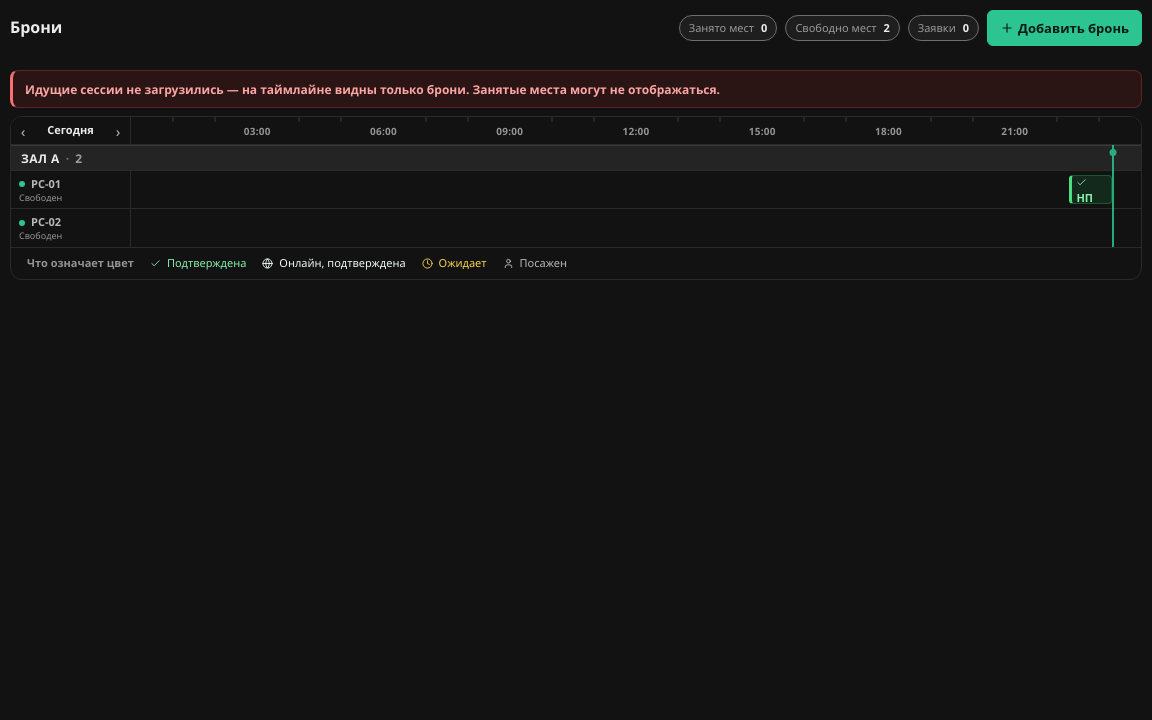
Scenario: BackendBookingWorkspace no-show › отмечает приход текущей версией брони и говорит, что неявка отменена
Click the button with aria-label "Не приехавший гость" at (1090, 190), box left=1069, top=175, right=1112, bottom=204
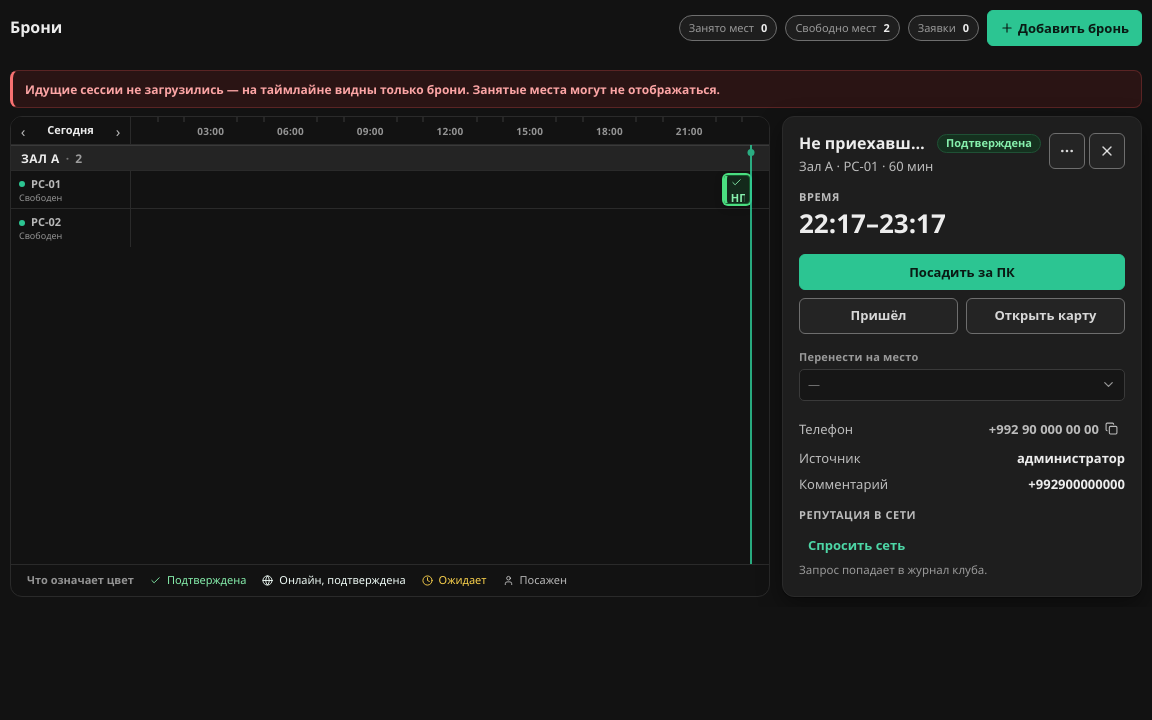
Click the button "Пришёл" at (878, 316), box left=799, top=298, right=958, bottom=334
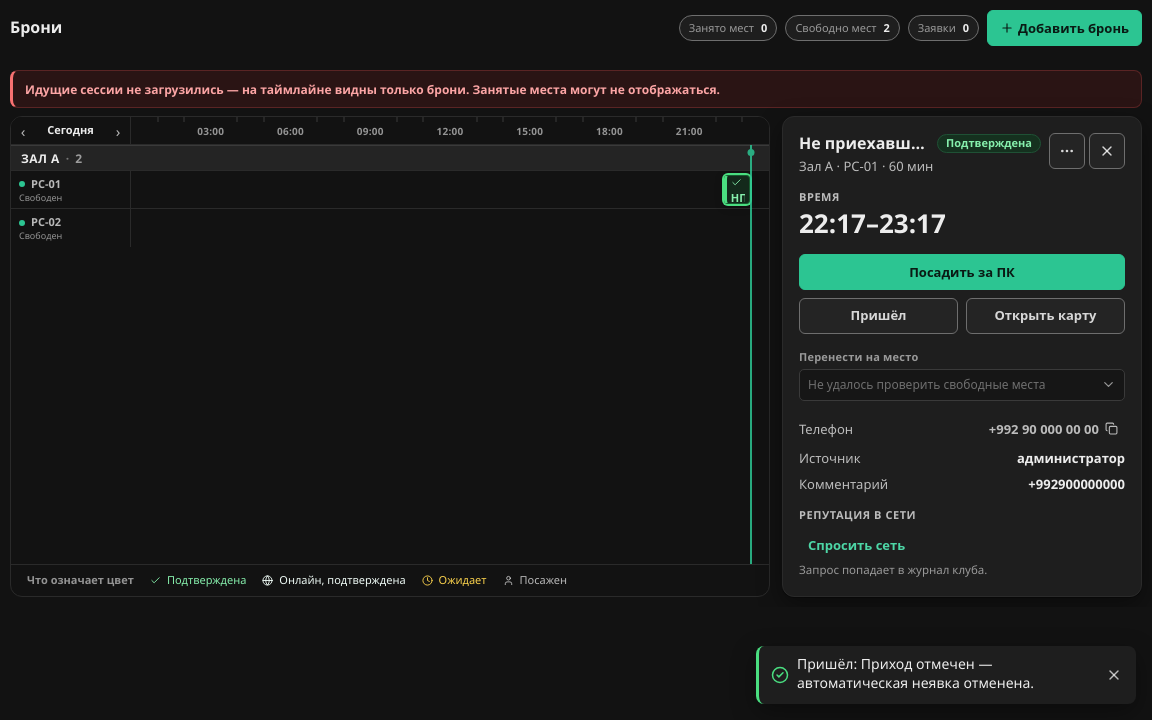
Expected: the text "Пришёл: Приход отмечен — автоматическая неявка отменена." is shown, left=797, top=655, right=1034, bottom=693
